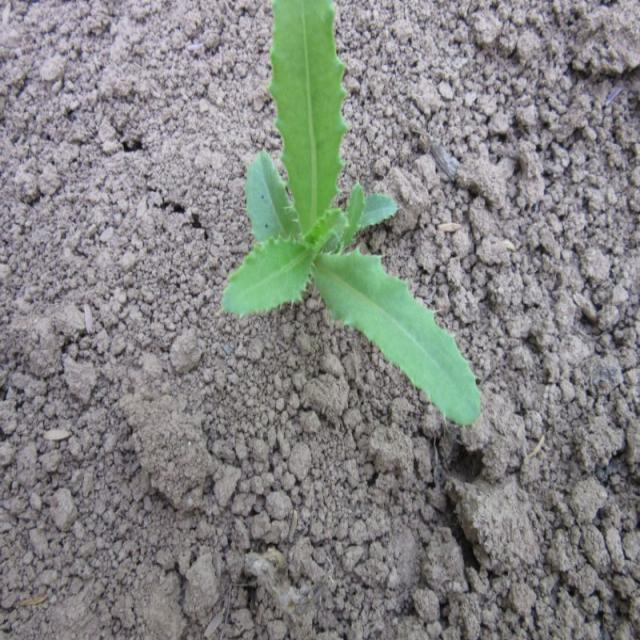cs: (216, 0, 484, 431)
